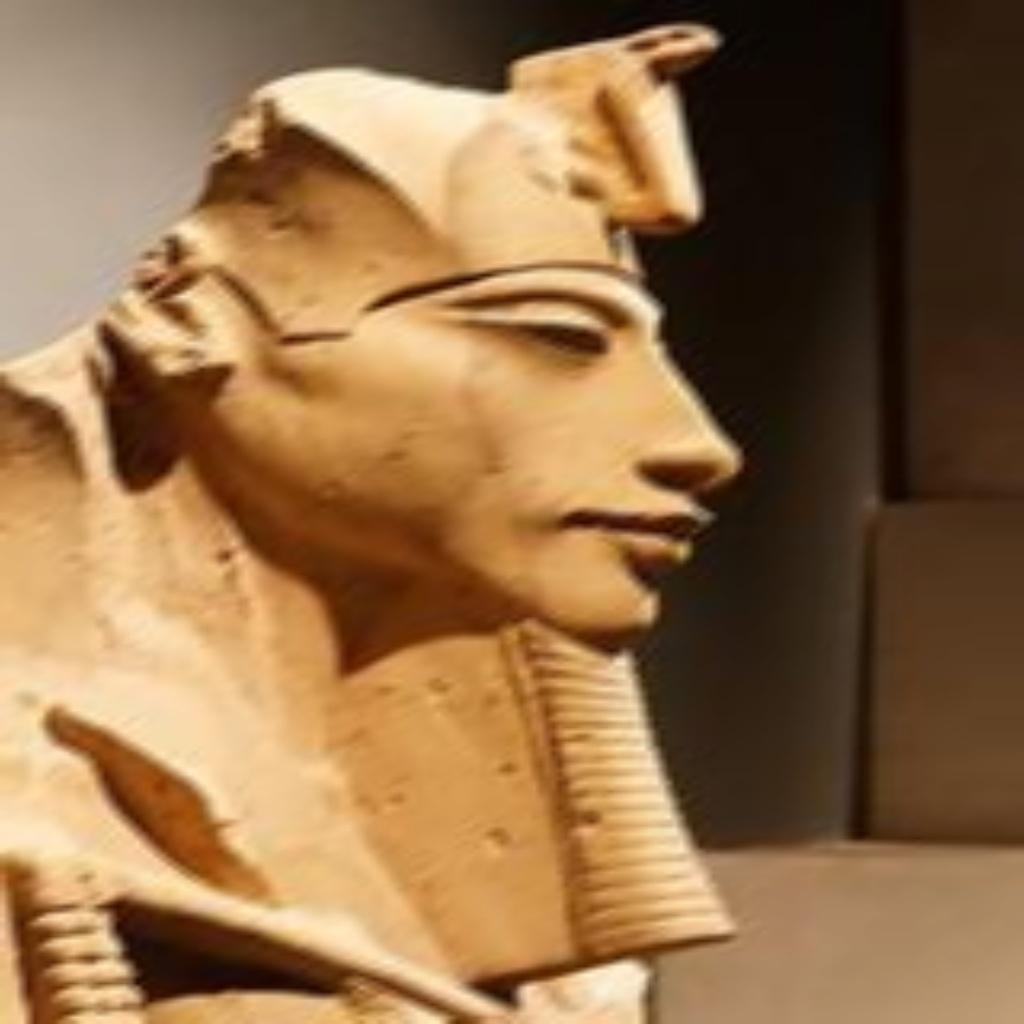Akhenaten: (0, 22, 762, 1020)
